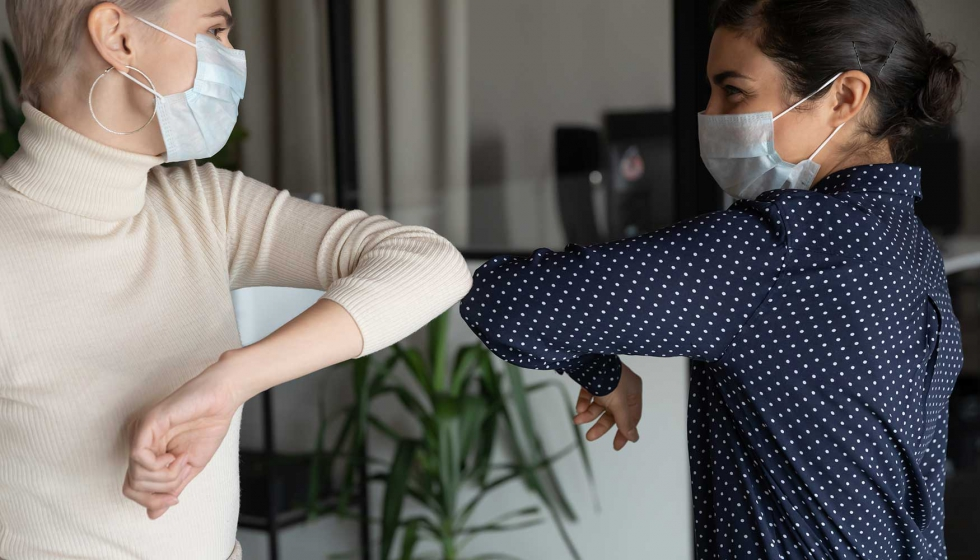with_mask: (38, 1, 259, 189), (674, 6, 881, 200)
